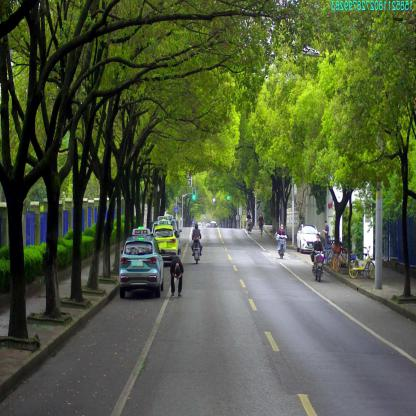traffic-light: (192, 187, 196, 200), (227, 194, 231, 199)
